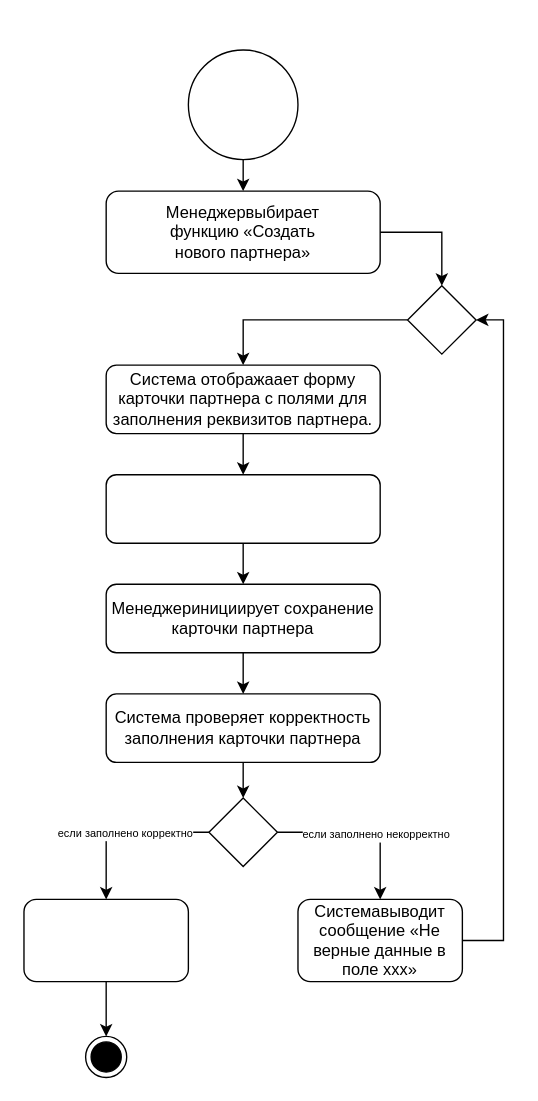
The diagram is 538 pixels wide and 1101 high, and some of its shapes have lost their labels. Each missing label, with the centre of its shape:
Менеджер заполняет необходимые поля.: point 242,508
Система сохраняет карточку партнера: point 105,940
